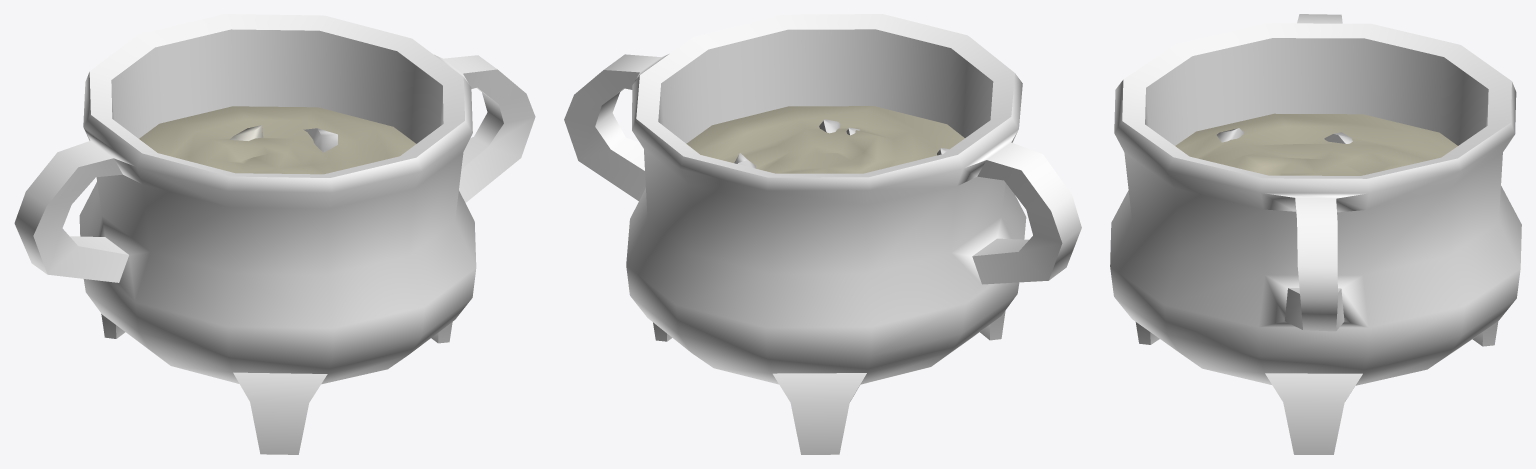
Rendered from PT_Pot_42.fbx.
3 views of the same model, side by side, from view 1: azimuth 30°, elevation 25°; view 2: azimuth 150°, elevation 25°; view 3: azimuth 270°, elevation 25° (orthographic).
Parts seen in each view (by area): view 1: PT_Pot_42; view 2: PT_Pot_42; view 3: PT_Pot_42.
Part boxes in pixels (bbox=[...]): PT_Pot_42: bbox=[14, 14, 535, 454]; PT_Pot_42: bbox=[564, 14, 1081, 454]; PT_Pot_42: bbox=[1110, 14, 1521, 454].
Size of the model in its own units: 52.53 by 27.8 by 37.62.
1 material, 1 textured.
